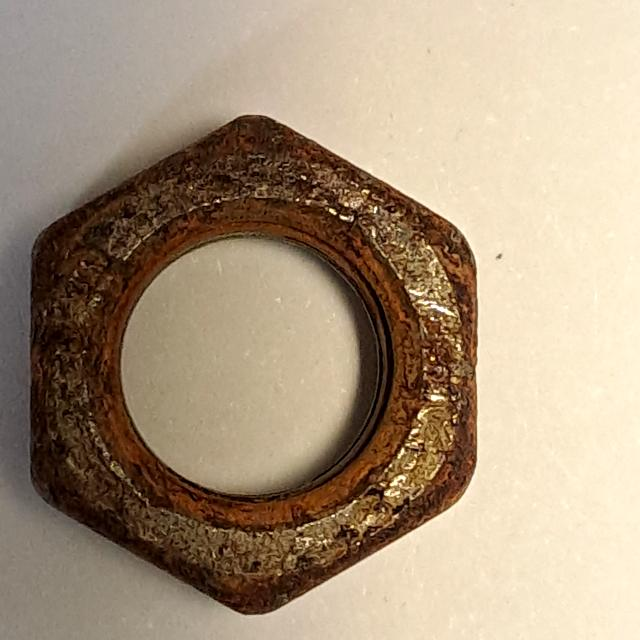Rust: (12, 80, 495, 640)
